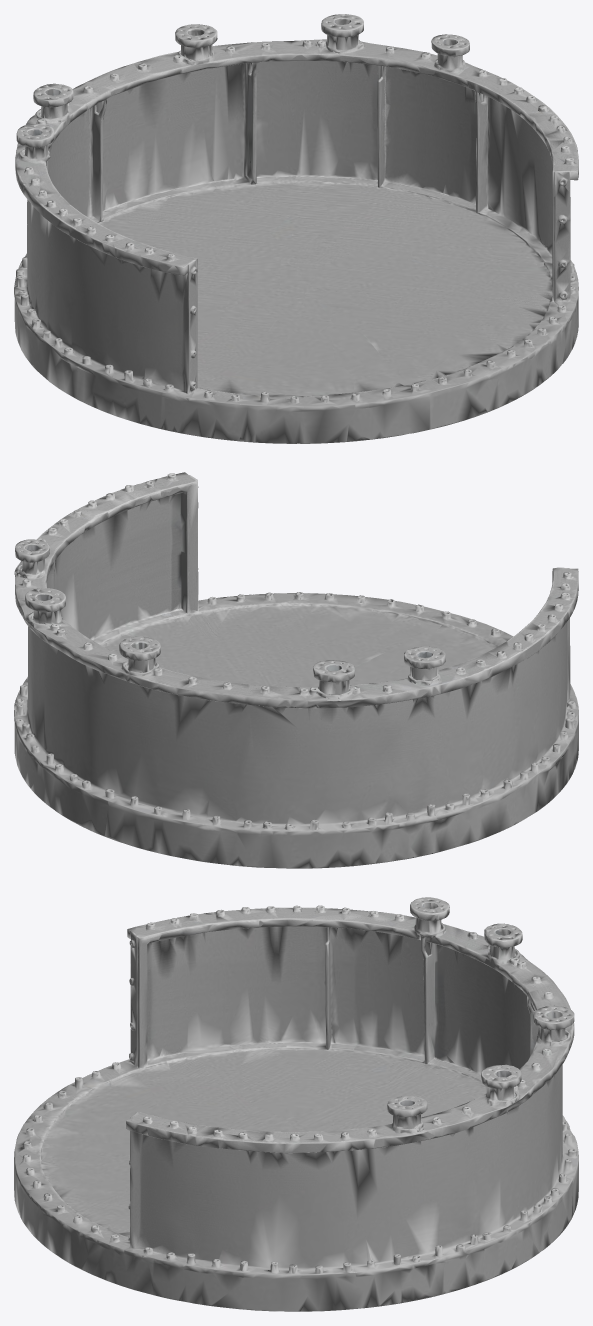
The model's file is tank-m.glb.
3 views of the same model, one above another, from view 1: azimuth 30°, elevation 25°; view 2: azimuth 150°, elevation 25°; view 3: azimuth 270°, elevation 25° (orthographic).
Visible parts, largest first — view 1: mesh_0; view 2: mesh_0; view 3: mesh_0.
Boxes of the visible parts, x1=… form: mesh_0: x1=14, y1=14, x2=578, y2=443; mesh_0: x1=14, y1=472, x2=578, y2=868; mesh_0: x1=14, y1=897, x2=578, y2=1311.
Bounding box in the file's own units: 1.9 × 0.7138 × 1.9.
Materials: 1 (1 with a texture image).
